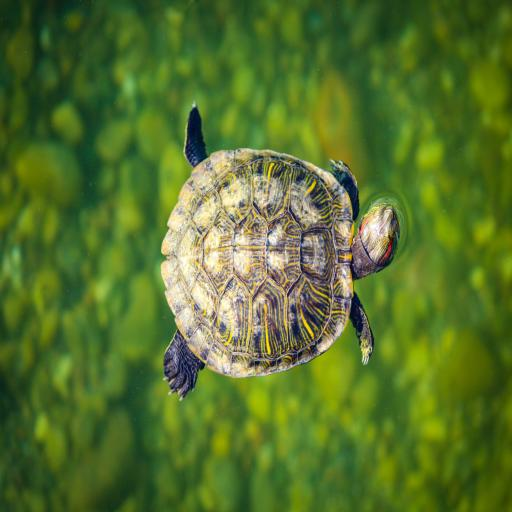turtles: (161, 103, 403, 400)
